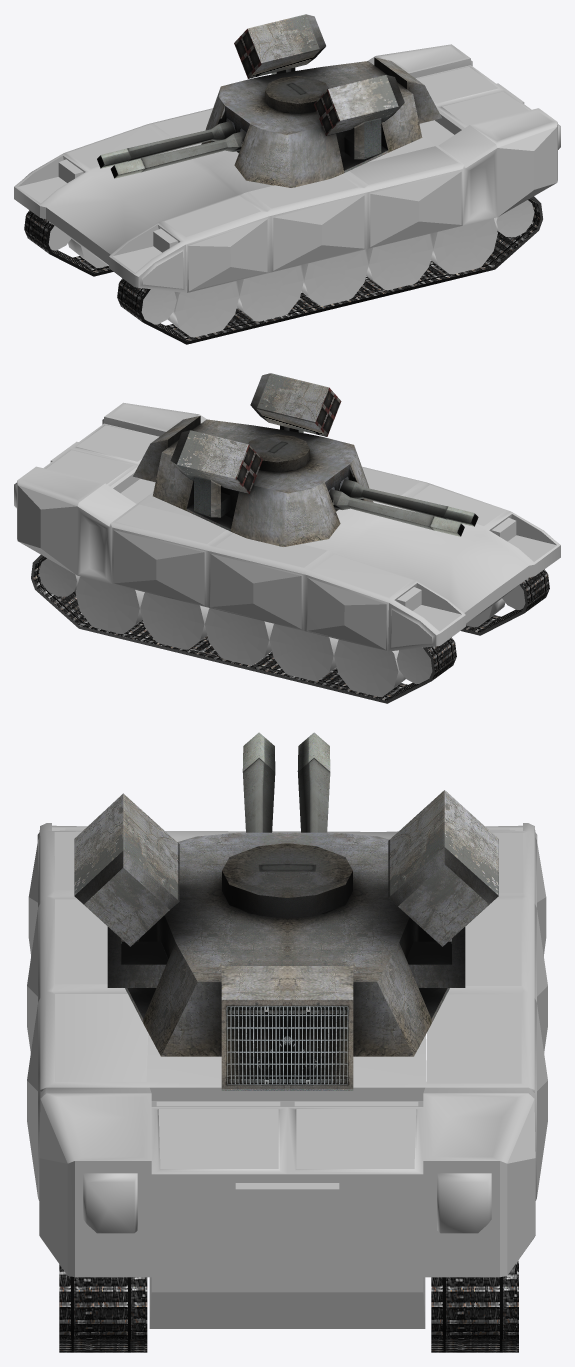
Rendered from Tank4_lod1.FBX.
3 renders of one model, top to bottom at view 1: azimuth 30°, elevation 25°; view 2: azimuth 150°, elevation 25°; view 3: azimuth 270°, elevation 25°, orthographic. The views are drawn at different scales.
Parts seen in each view (by area): view 1: tank10, tank4_gun02, Object32, tank4_gun03, wheel147, wheel144, wheel148, wheel150, wheel149, wheel140, wheel146; view 2: tank10, tank4_gun02, Object32, tank4_gun03, wheel143, wheel139, wheel137, wheel141, wheel142, wheel145, wheel138; view 3: tank10, tank4_gun02, Object32, tank4_gun03.
Boxes of the visible parts, x1,y1,x2,y2 form: tank10: [14, 44, 560, 292]; tank4_gun02: [201, 14, 441, 187]; Object32: [24, 196, 542, 344]; tank4_gun03: [97, 121, 245, 178]; wheel147: [167, 281, 239, 337]; wheel144: [429, 218, 497, 274]; wheel148: [235, 265, 303, 321]; wheel150: [364, 234, 433, 290]; wheel149: [300, 250, 368, 305]; wheel140: [494, 200, 534, 237]; wheel146: [141, 289, 176, 324]; tank10: [14, 402, 560, 651]; tank4_gun02: [133, 373, 373, 546]; Object32: [31, 554, 549, 703]; tank4_gun03: [329, 479, 478, 536]; wheel143: [140, 592, 209, 649]; wheel139: [334, 639, 405, 696]; wheel137: [75, 576, 144, 633]; wheel141: [269, 624, 338, 681]; wheel142: [205, 608, 273, 665]; wheel145: [39, 558, 80, 596]; wheel138: [396, 647, 432, 683]; tank10: [27, 823, 547, 1328]; tank4_gun02: [74, 790, 498, 1090]; Object32: [59, 1260, 518, 1352]; tank4_gun03: [242, 732, 330, 832].
Bounding box in the file's own units: 7.06 × 3.22 × 3.65.
